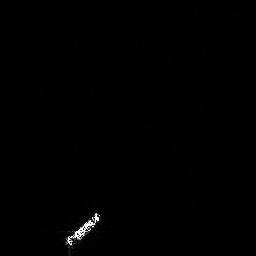ship: (62, 209, 103, 255)
